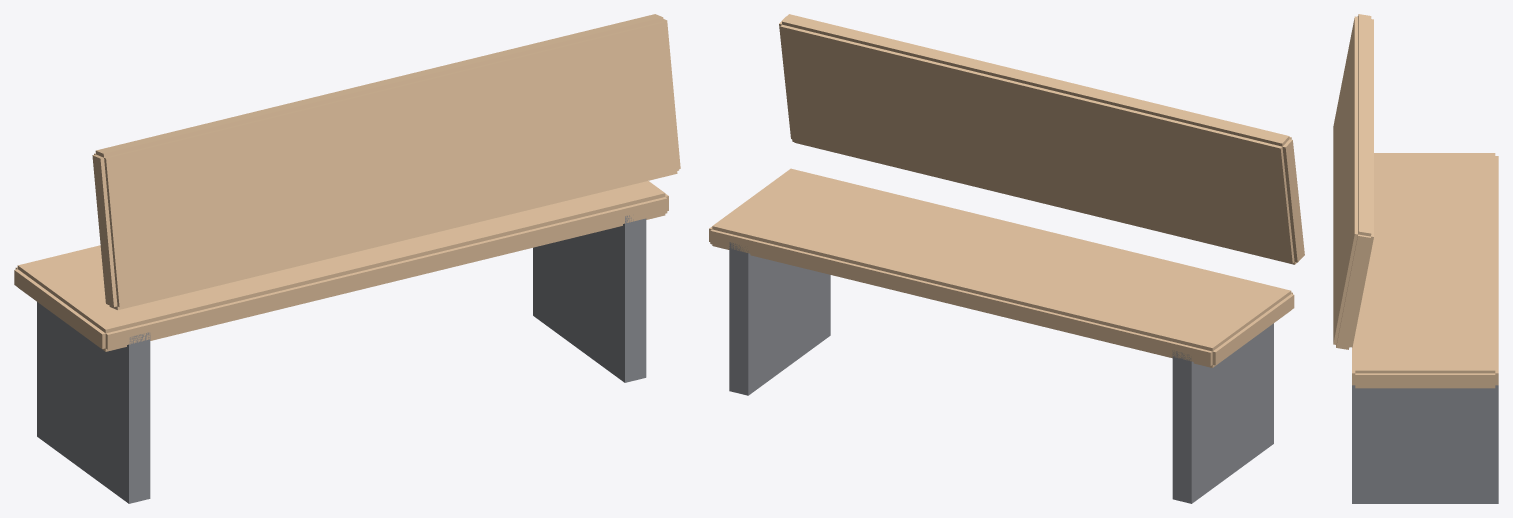
Rendered from bench_street.glb.
3 renders of one model, left to right at view 1: azimuth 30°, elevation 25°; view 2: azimuth 150°, elevation 25°; view 3: azimuth 270°, elevation 25°, orthographic. The views are drawn at different scales.
Visible parts, largest first — view 1: bench_street; view 2: bench_street; view 3: bench_street.
Boxes of the visible parts, x1=… form: bench_street: x1=14, y1=14, x2=680, y2=503; bench_street: x1=709, y1=14, x2=1304, y2=503; bench_street: x1=1333, y1=14, x2=1498, y2=503.
Size of the model in its own units: 1.6 by 0.9504 by 0.5075.
